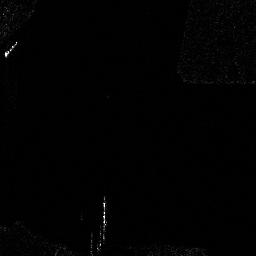ship: (96, 192, 106, 251), (2, 37, 19, 58)
